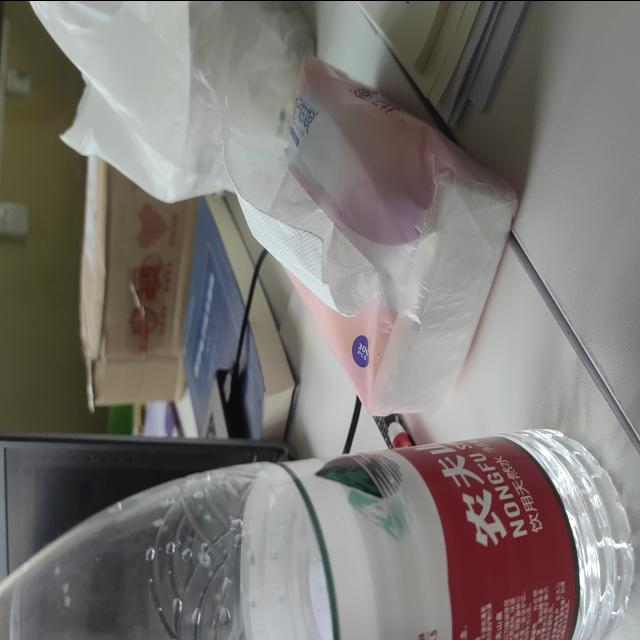寶特瓶: (7, 428, 634, 634)
